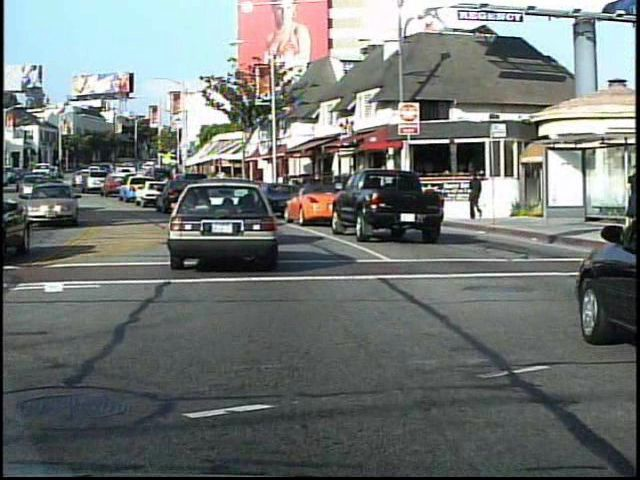person: (464, 173, 483, 227), (623, 165, 640, 224)
